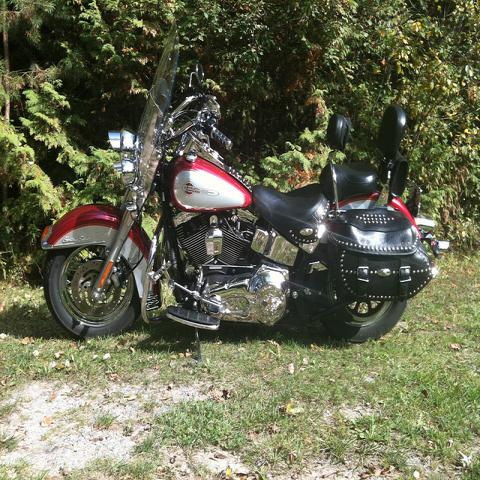motorcycle: (44, 11, 452, 362)
